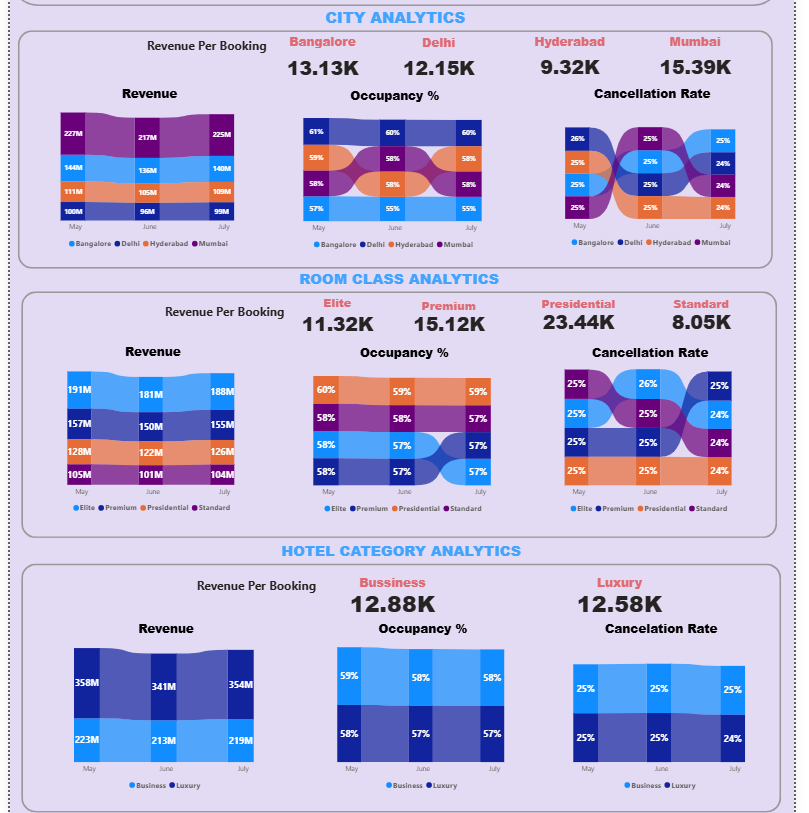

This screenshot's page, from the dashboard's own definition file:
{"tool":"powerbi","page":{"name":"Segmentation Analytics (City, Class, Category)","canvas":[1400,1500],"ordinal":3},"visuals":[{"type":"shape","title":"CITY ANALYTICS","box":[0,19,1348.3,467.2],"z":0},{"type":"shape","title":"ROOM CLASS ANALYTICS","box":[20.4,519.4,1349.5,481.7],"z":1000},{"type":"shape","title":"HOTEL CATEGORY ANALYTICS ","box":[20.4,1012.9,1357,487.1],"z":2000},{"type":"textbox","box":[206.9,77.6,227.6,55.2],"z":3000},{"type":"card","title":"Bangalore","fields":{"Values":["KEY MEASURES.REVENUE PER BOOKING"]},"box":[406.5,75,198.9,92.4],"z":4000},{"type":"card","title":"Elite","fields":{"Values":["KEY MEASURES.REVENUE PER BOOKING"]},"box":[407.6,566.3,198.9,90.2],"z":5000},{"type":"card","title":"Delhi","fields":{"Values":["KEY MEASURES.REVENUE PER BOOKING"]},"box":[648.9,76.1,198.9,90.2],"z":6000},{"type":"card","title":"Hyderabad","fields":{"Values":["KEY MEASURES.REVENUE PER BOOKING"]},"box":[883.7,77.2,198.9,90.2],"z":7000},{"type":"card","title":"Mumbai","fields":{"Values":["KEY MEASURES.REVENUE PER BOOKING"]},"box":[1118.5,77.2,198.9,90.2],"z":8000},{"type":"card","title":"Premium","fields":{"Values":["KEY MEASURES.REVENUE PER BOOKING"]},"box":[664.1,566.3,198.9,90.2],"z":9000},{"type":"card","title":"Standard","fields":{"Values":["KEY MEASURES.REVENUE PER BOOKING"]},"box":[1150,566.3,198.9,90.2],"z":10000},{"type":"card","title":"Presidential","fields":{"Values":["KEY MEASURES.REVENUE PER BOOKING"]},"box":[919.6,567.4,198.9,90.2],"z":11000},{"type":"card","title":"Bussiness","fields":{"Values":["KEY MEASURES.REVENUE PER BOOKING"]},"box":[577.4,1061.3,197.8,89.2],"z":12000},{"type":"card","title":"Luxury","fields":{"Values":["KEY MEASURES.REVENUE PER BOOKING"]},"box":[896.8,1062.4,212.9,88.2],"z":13000},{"type":"textbox","box":[156.9,582.8,277.6,58.6],"z":14000},{"type":"textbox","box":[296.6,1075.9,272.4,60.3],"z":15000},{"type":"ribbonChart","title":"Revenue","fields":{"Y":["KEY MEASURES.Revenue"],"Series":["HOTELS.CITY"],"Category":["DATE.MONTH NAME"]},"box":[31.2,166.7,433.3,301.1],"z":16000},{"type":"ribbonChart","title":"Occupancy %","fields":{"Series":["HOTELS.CITY"],"Category":["DATE.MONTH NAME"],"Y":["KEY MEASURES.Occpuncay %"]},"box":[438.7,167.7,472,300],"z":17000},{"type":"ribbonChart","title":"Cancelation Rate","fields":{"Series":["HOTELS.CITY"],"Category":["DATE.MONTH NAME"],"Y":["KEY MEASURES.Cancellation Rate"]},"box":[910.8,167.7,438.7,300],"z":18000},{"type":"ribbonChart","title":"Cancelation Rate","fields":{"Category":["DATE.MONTH NAME"],"Y":["KEY MEASURES.Cancellation Rate"],"Series":["HOTELS.CATEGORY"]},"box":[939.8,1172,430.1,300],"z":19000},{"type":"ribbonChart","title":"Occupancy %","fields":{"Category":["DATE.MONTH NAME"],"Series":["HOTELS.CATEGORY"],"Y":["KEY MEASURES.Occpuncay %"]},"box":[521.5,1158.1,418.3,314],"z":20000},{"type":"ribbonChart","title":"Revenue","fields":{"Category":["DATE.MONTH NAME"],"Series":["HOTELS.CATEGORY"],"Y":["KEY MEASURES.Revenue"]},"box":[46.2,1158.1,449.5,314],"z":21000},{"type":"ribbonChart","title":"Cancelation Rate","fields":{"Category":["DATE.MONTH NAME"],"Y":["KEY MEASURES.Cancellation Rate"],"Series":["ROOMS.ROOM CLASS"]},"box":[926.9,666.7,418.3,311.8],"z":22000},{"type":"ribbonChart","title":"Occupancy %","fields":{"Category":["DATE.MONTH NAME"],"Series":["ROOMS.ROOM CLASS"],"Y":["KEY MEASURES.Occpuncay %"]},"box":[475.3,666.7,444.1,311.8],"z":23000},{"type":"ribbonChart","title":"Revenue","fields":{"Category":["DATE.MONTH NAME"],"Series":["ROOMS.ROOM CLASS"],"Y":["KEY MEASURES.Revenue"]},"box":[39.8,665.6,418.3,312.9],"z":24000},{"type":"actionButton","box":[1277,10,61,40],"z":25000}]}

Visuals, with their boxes on the page's 1400x1500 design canvas (x1, y1, x2, y2). These are canvas units, not pixel positions in the 809x813 screenshot, which may show the page scaled, cropped or inside an application window:
"CITY ANALYTICS" shape: 0:19:1348:486
"ROOM CLASS ANALYTICS" shape: 20:519:1370:1001
"HOTEL CATEGORY ANALYTICS " shape: 20:1013:1377:1500
textbox: 207:78:434:133
"Bangalore" card: 406:75:605:167
"Elite" card: 408:566:606:656
"Delhi" card: 649:76:848:166
"Hyderabad" card: 884:77:1083:167
"Mumbai" card: 1118:77:1317:167
"Premium" card: 664:566:863:656
"Standard" card: 1150:566:1349:656
"Presidential" card: 920:567:1118:658
"Bussiness" card: 577:1061:775:1150
"Luxury" card: 897:1062:1110:1151
textbox: 157:583:434:641
textbox: 297:1076:569:1136
"Revenue" ribbonChart: 31:167:464:468
"Occupancy %" ribbonChart: 439:168:911:468
"Cancelation Rate" ribbonChart: 911:168:1350:468
"Cancelation Rate" ribbonChart: 940:1172:1370:1472
"Occupancy %" ribbonChart: 522:1158:940:1472
"Revenue" ribbonChart: 46:1158:496:1472
"Cancelation Rate" ribbonChart: 927:667:1345:978
"Occupancy %" ribbonChart: 475:667:919:978
"Revenue" ribbonChart: 40:666:458:978
actionButton: 1277:10:1338:50
